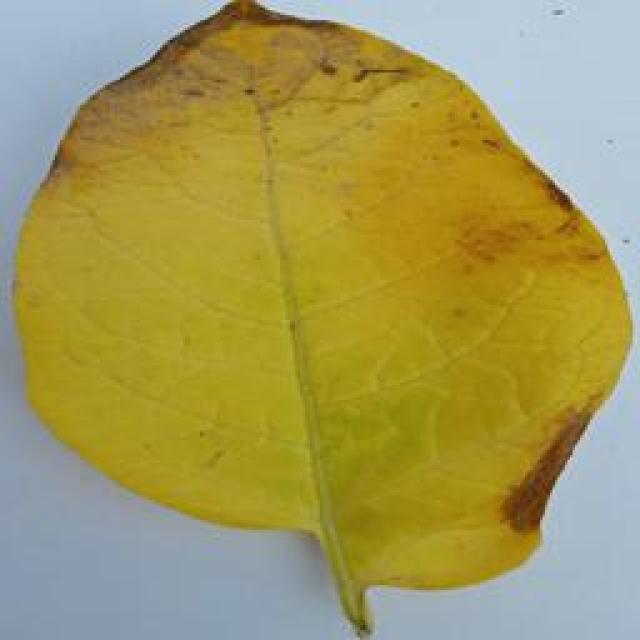Potato_Late_Blight: (15, 2, 622, 632)
